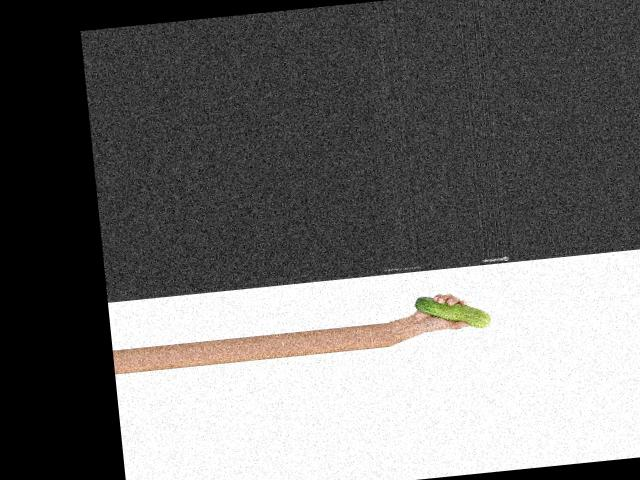cucumber: (413, 290, 490, 334)
